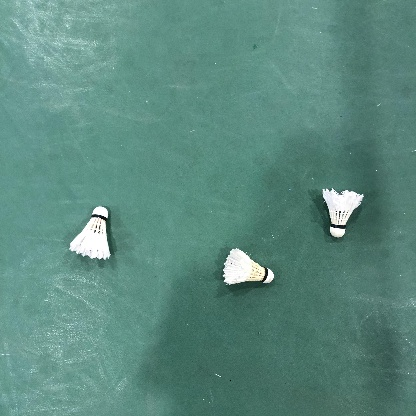ball_single: (69, 206, 110, 260), (323, 188, 364, 237), (222, 248, 274, 284)
